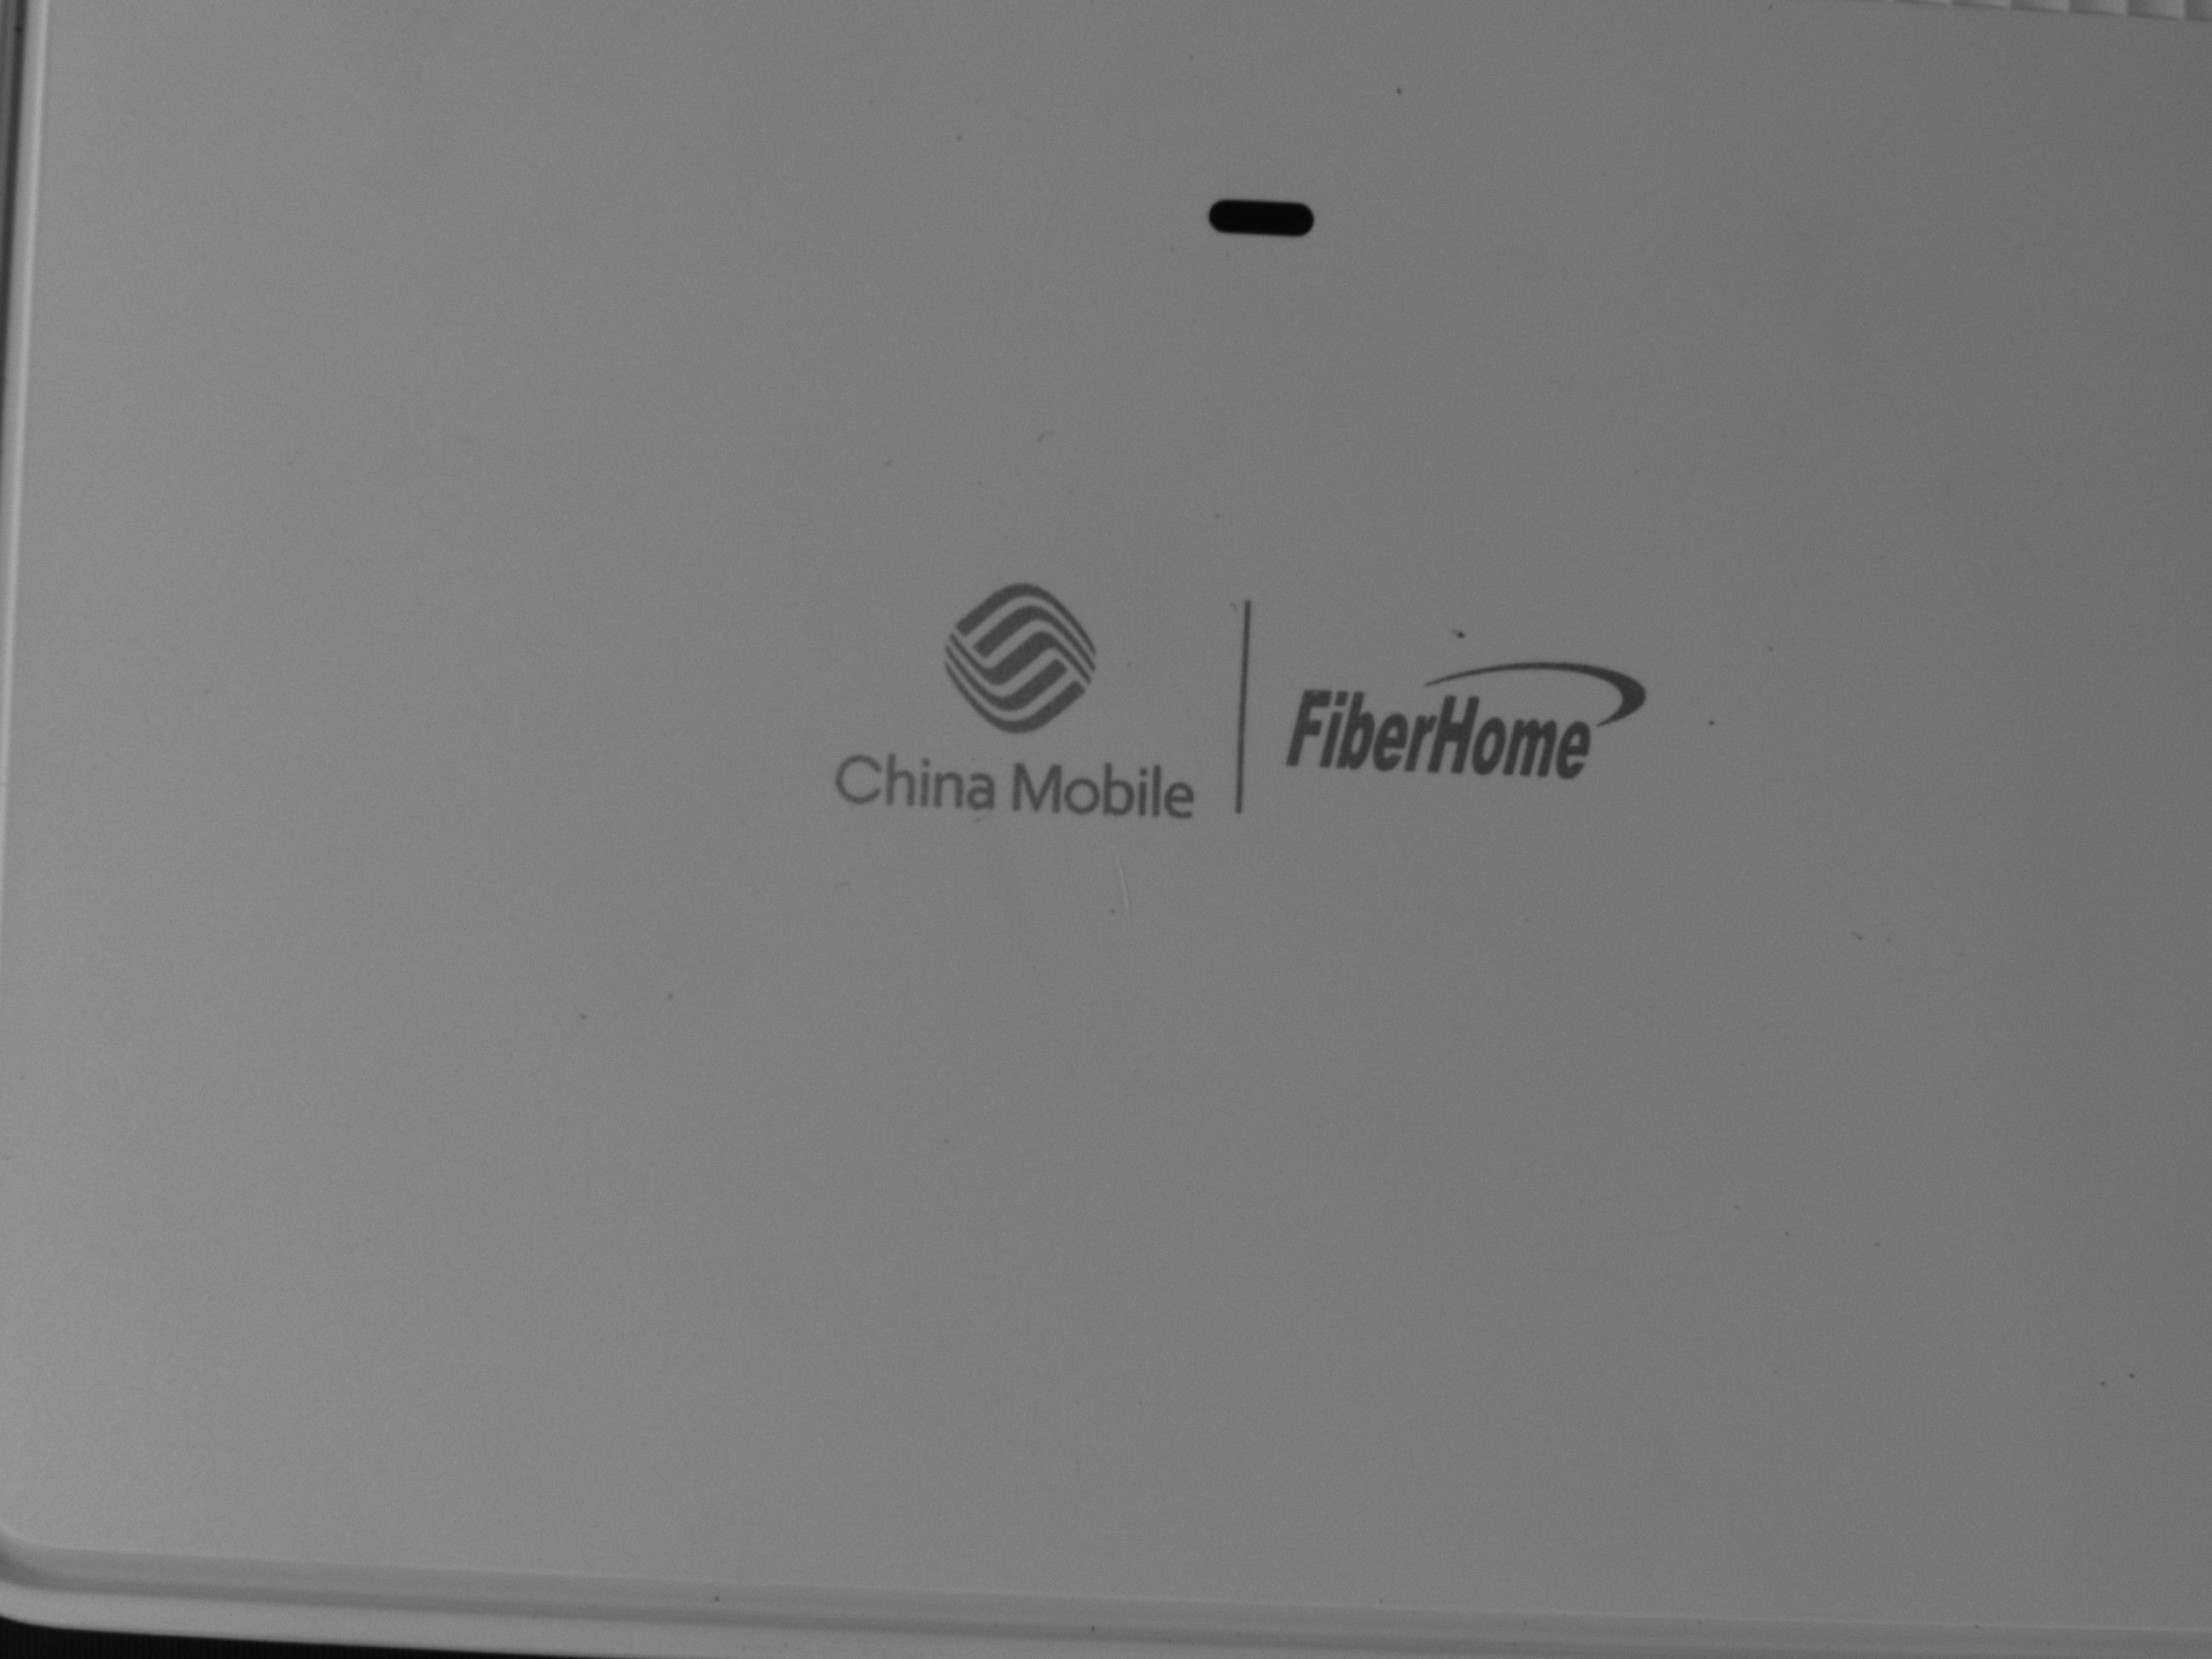BX_HG6371FMobileFiberhome: (805, 535, 1660, 843)
